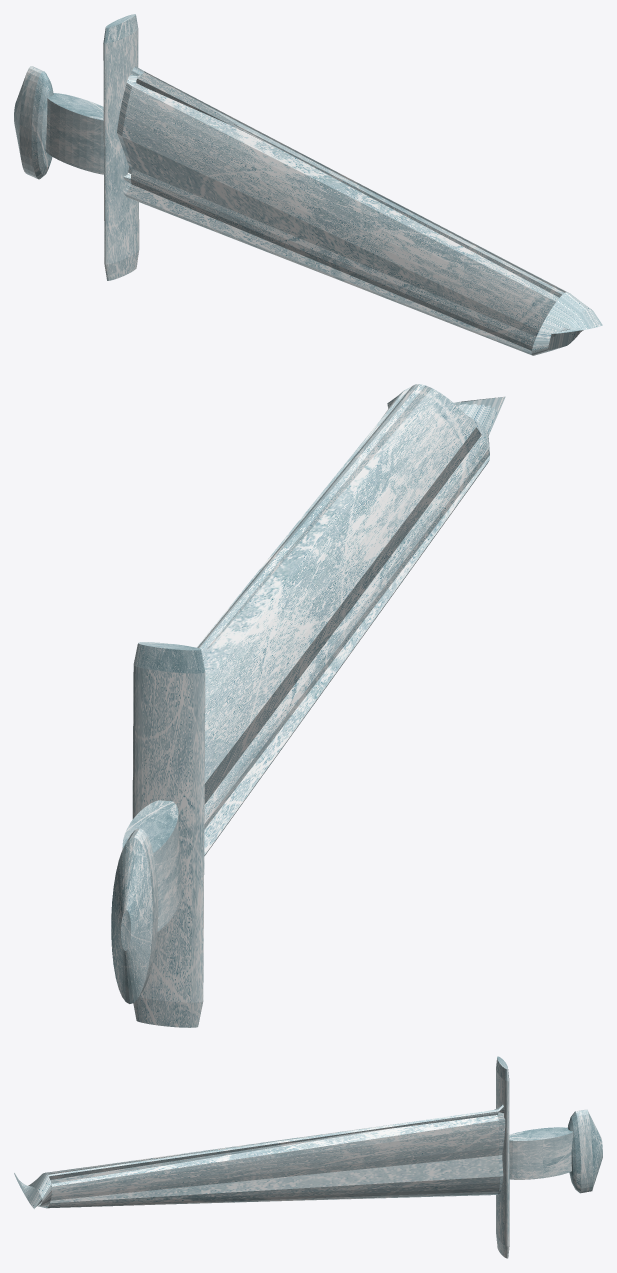
Rendered from sword_kolejny.fbx.
3 views of the same model, one above another, from view 1: azimuth 30°, elevation 25°; view 2: azimuth 150°, elevation 25°; view 3: azimuth 270°, elevation 25° (orthographic). The views are drawn at different scales.
Parts seen in each view (by area): view 1: Cylinder; view 2: Cylinder; view 3: Cylinder.
Boxes of the visible parts, x1=… form: Cylinder: x1=14, y1=14, x2=602, y2=355; Cylinder: x1=111, y1=384, x2=505, y2=1027; Cylinder: x1=14, y1=1056, x2=602, y2=1258.
Size of the model in its own units: 24.81 by 28.34 by 80.05.
4 materials, 4 textured.
